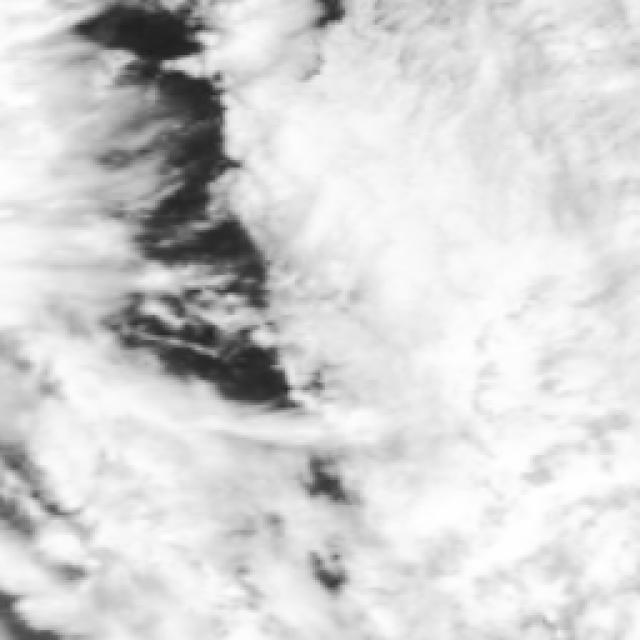CB: (428, 173, 640, 432), (440, 427, 640, 640), (429, 11, 640, 188), (275, 90, 466, 283), (112, 437, 284, 640), (323, 278, 501, 450), (6, 52, 116, 326), (365, 450, 493, 640)
